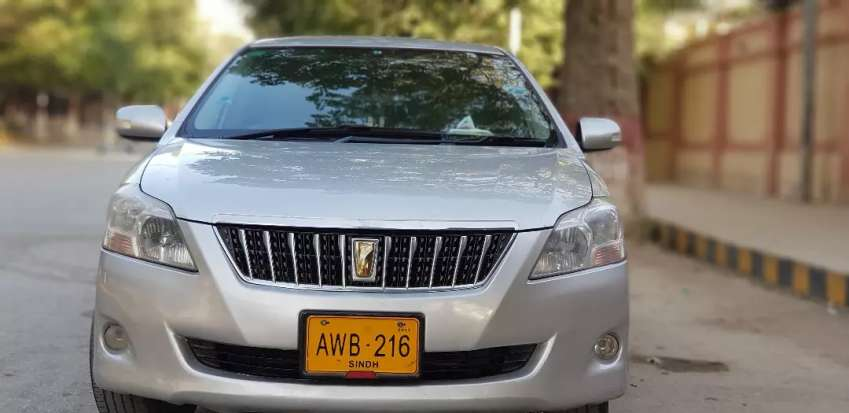license plate: (309, 316, 418, 372)
